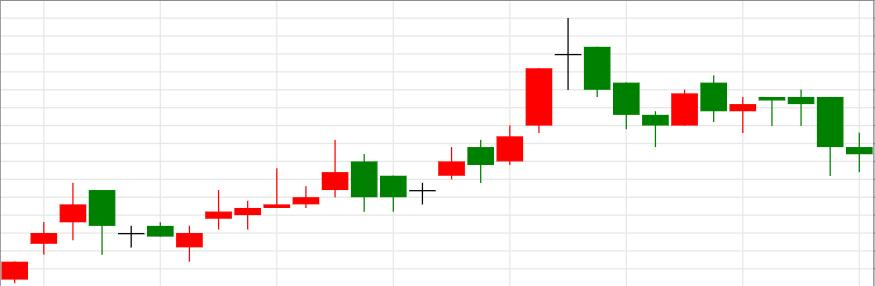evening_star_fall: (409, 18, 611, 206)
